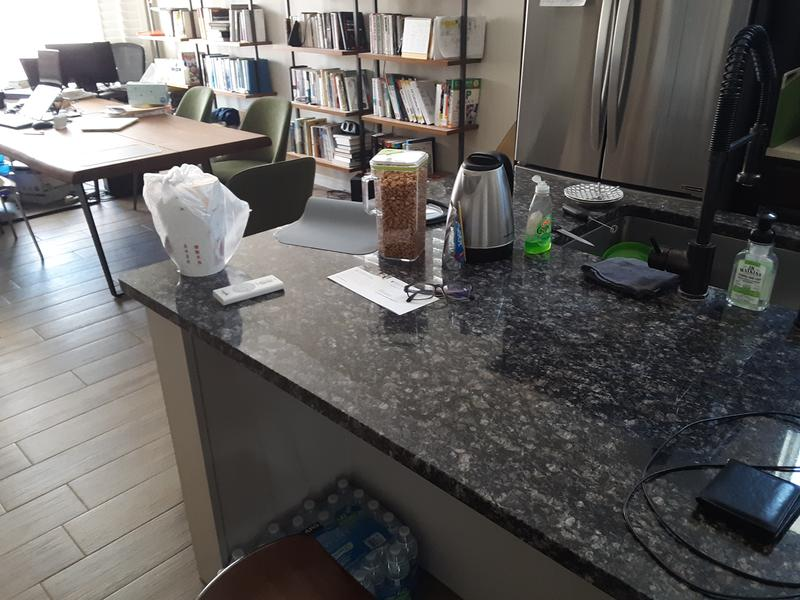glasses: (401, 278, 477, 303)
